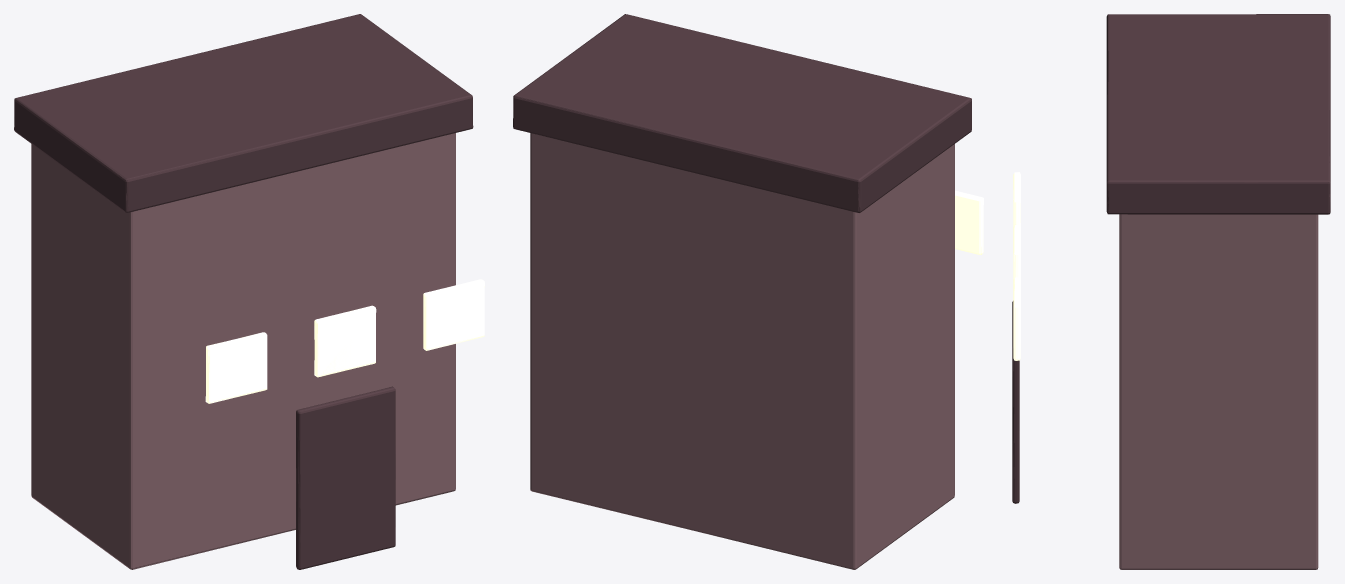
The model's file is SM_Schlachthof_Hall.fbx.
3 views of the same model, side by side, from view 1: azimuth 30°, elevation 25°; view 2: azimuth 150°, elevation 25°; view 3: azimuth 270°, elevation 25° (orthographic).
Parts seen in each view (by area): view 1: LOD0_SM_Schlachthof_Hall, LOD1_SM_Schlachthof_Hall; view 2: LOD0_SM_Schlachthof_Hall, LOD1_SM_Schlachthof_Hall; view 3: LOD0_SM_Schlachthof_Hall, LOD1_SM_Schlachthof_Hall.
Part boxes in pixels (x1=…): LOD0_SM_Schlachthof_Hall: x1=14, y1=14, x2=484, y2=569; LOD1_SM_Schlachthof_Hall: x1=14, y1=14, x2=484, y2=569; LOD0_SM_Schlachthof_Hall: x1=513, y1=14, x2=983, y2=569; LOD1_SM_Schlachthof_Hall: x1=513, y1=14, x2=983, y2=569; LOD0_SM_Schlachthof_Hall: x1=1012, y1=14, x2=1330, y2=569; LOD1_SM_Schlachthof_Hall: x1=1012, y1=14, x2=1330, y2=569.
Bounding box in the file's own units: 3.2 × 3.5 × 2.56.
